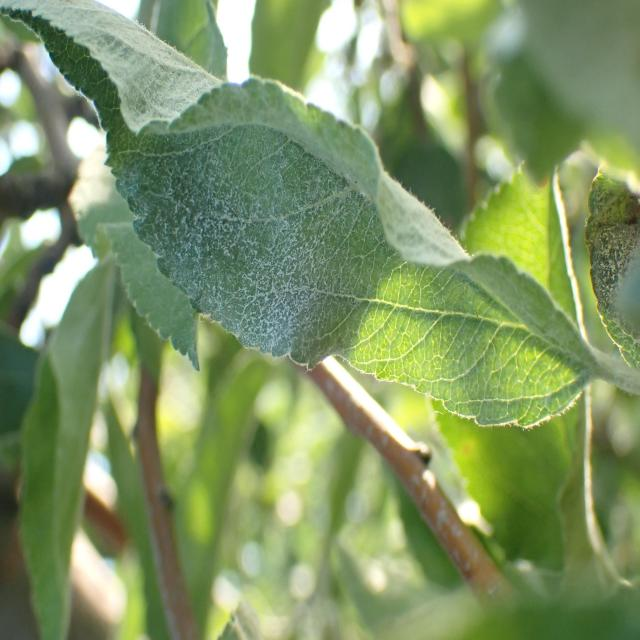Powdery_mildew: (0, 0, 613, 416), (548, 139, 640, 398)
